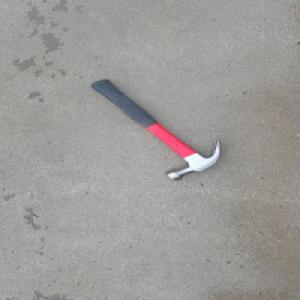Hammer: (90, 77, 223, 180)
